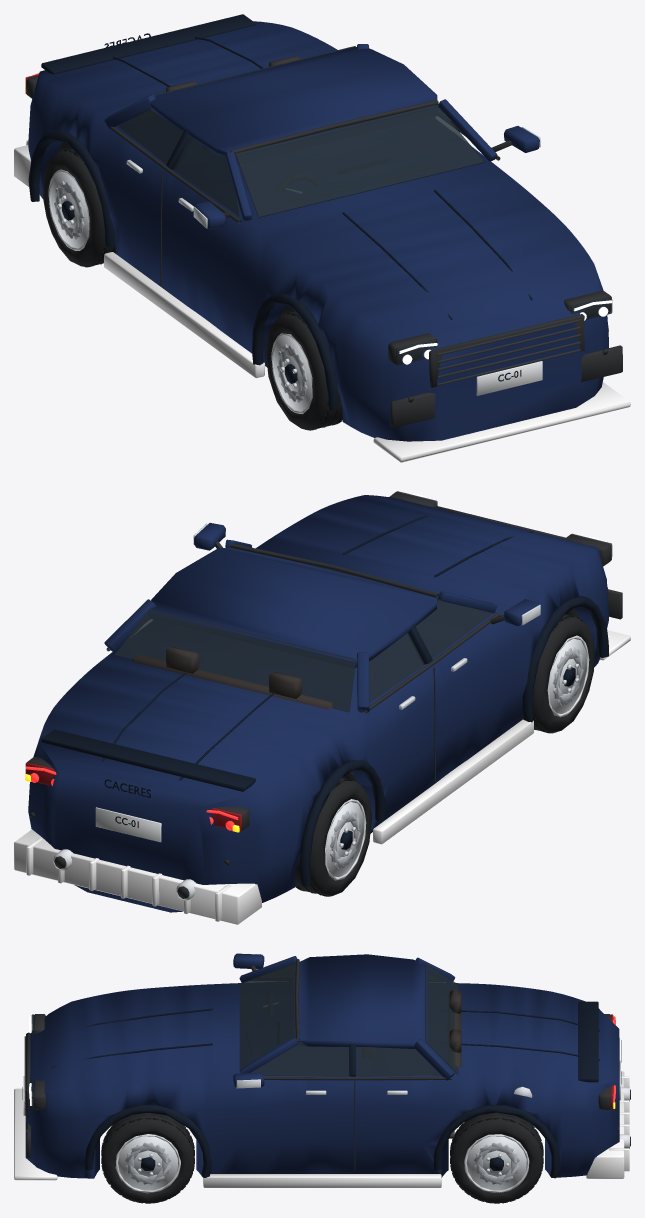
The model's file is caceres-gt.glb.
The picture shows the model from 3 angles, top to bottom: view 1: azimuth 30°, elevation 25°; view 2: azimuth 150°, elevation 25°; view 3: azimuth 270°, elevation 25°; orthographic projection. The views are drawn at different scales.
Parts seen in each view (by area): view 1: CaceresGTBody, WheelFrontLeft, WheelRearLeft; view 2: CaceresGTBody, WheelRearLeft, WheelFrontLeft; view 3: CaceresGTBody, WheelFrontRight, WheelRearRight.
Boxes of the visible parts, x1,y1,x2,y2 form: CaceresGTBody: [14, 14, 630, 462]; WheelFrontLeft: [265, 311, 342, 430]; WheelRearLeft: [43, 148, 115, 267]; CaceresGTBody: [14, 491, 630, 924]; WheelRearLeft: [295, 777, 372, 896]; WheelFrontLeft: [521, 614, 594, 733]; CaceresGTBody: [14, 953, 630, 1187]; WheelFrontRight: [101, 1113, 194, 1203]; WheelRearRight: [450, 1112, 543, 1203].
Size of the model in its own units: 2.34 by 1.34 by 4.78.
